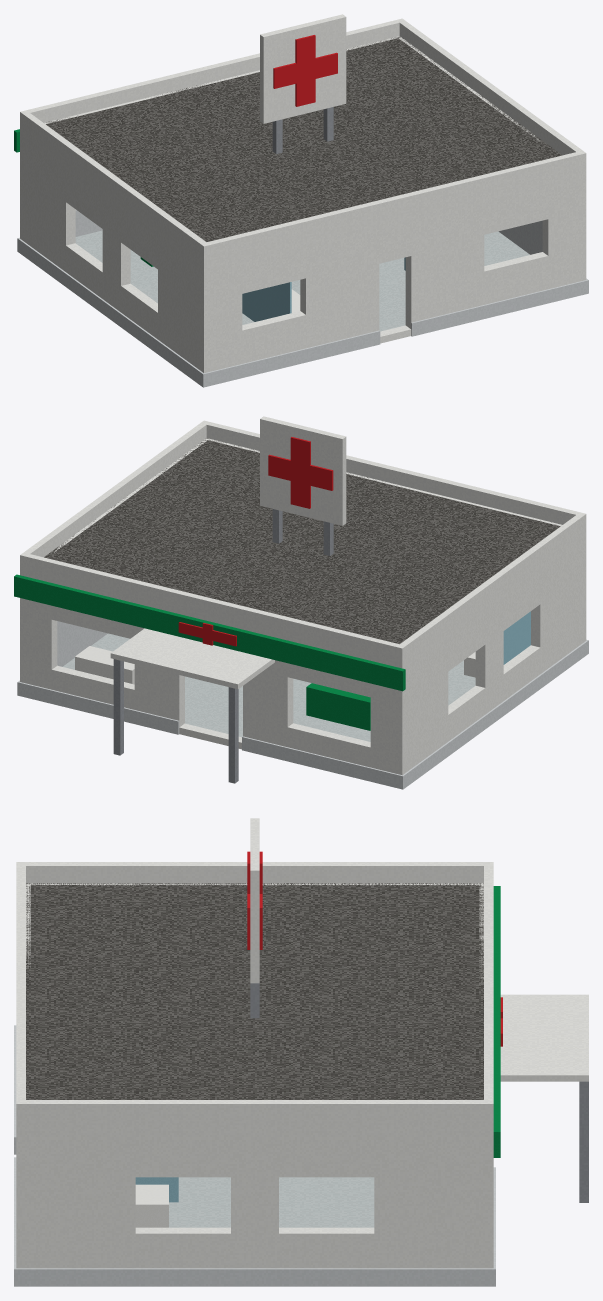
The model's file is clinic.glb.
The picture shows the model from 3 angles, top to bottom: view 1: azimuth 30°, elevation 25°; view 2: azimuth 150°, elevation 25°; view 3: azimuth 270°, elevation 25°; orthographic projection. The views are drawn at different scales.
Parts seen in each view (by area): view 1: clinic; view 2: clinic; view 3: clinic.
Boxes of the visible parts, x1,y1,x2,y2 form: clinic: [14, 14, 588, 387]; clinic: [14, 416, 588, 789]; clinic: [14, 818, 588, 1286].
Bounding box in the file's own units: 12.2 × 7.4 × 12.05.
9 materials, 9 textured.
